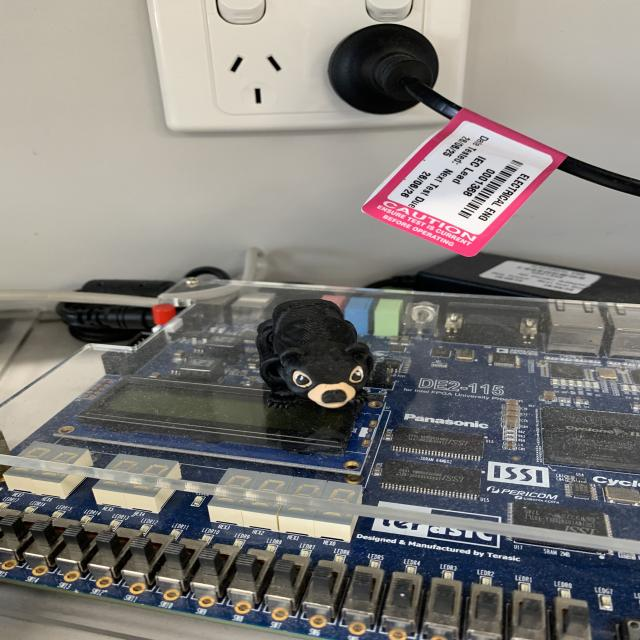tassie devil: (249, 293, 385, 419)
